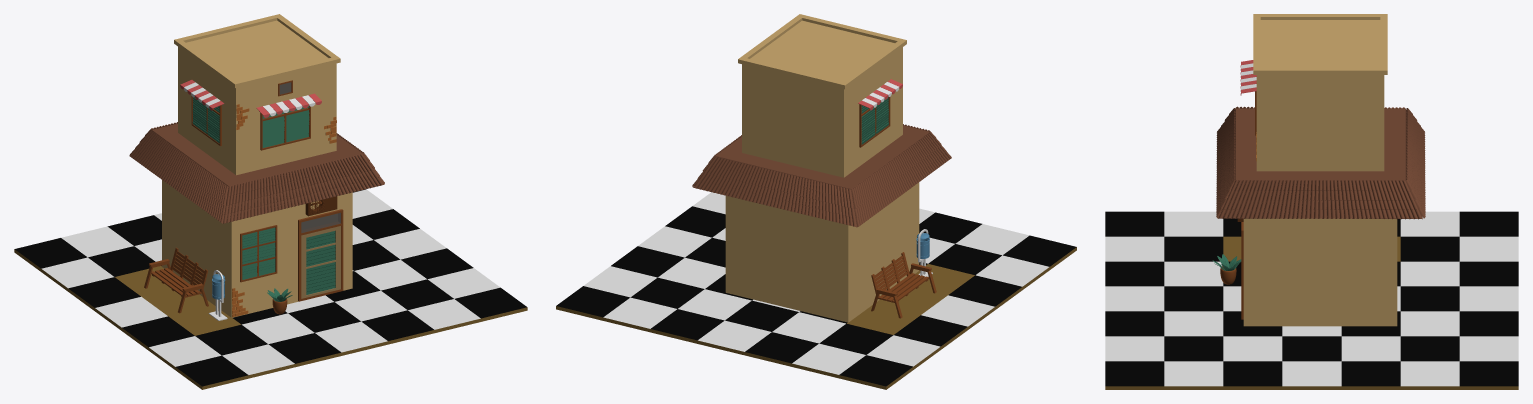
File: house.fbx
3 renders of one model, left to right at view 1: azimuth 30°, elevation 25°; view 2: azimuth 150°, elevation 25°; view 3: azimuth 270°, elevation 25°, orthographic. The views are drawn at different scales.
Parts seen in each view (by area): view 1: House_Building; view 2: House_Building; view 3: House_Building.
Boxes of the visible parts, box(x1,y1,x2,y2) form: House_Building: box(14, 14, 527, 389); House_Building: box(556, 14, 1076, 389); House_Building: box(1105, 14, 1518, 389).
Bounding box in the file's own units: 1060 × 723 × 1060.
